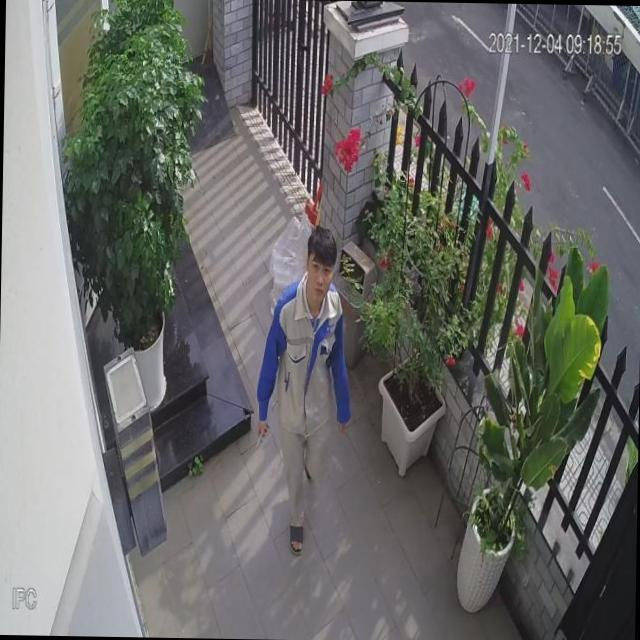person: (256, 228, 356, 563)
